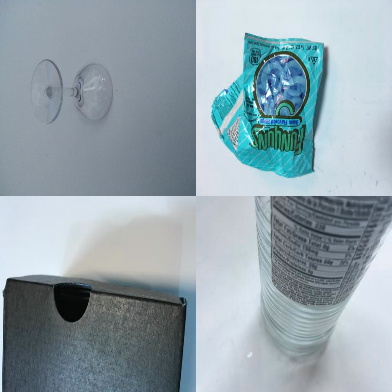cardboard: (2, 274, 186, 392)
glass: (29, 59, 114, 125)
plastic: (254, 196, 392, 346), (212, 31, 325, 176)
